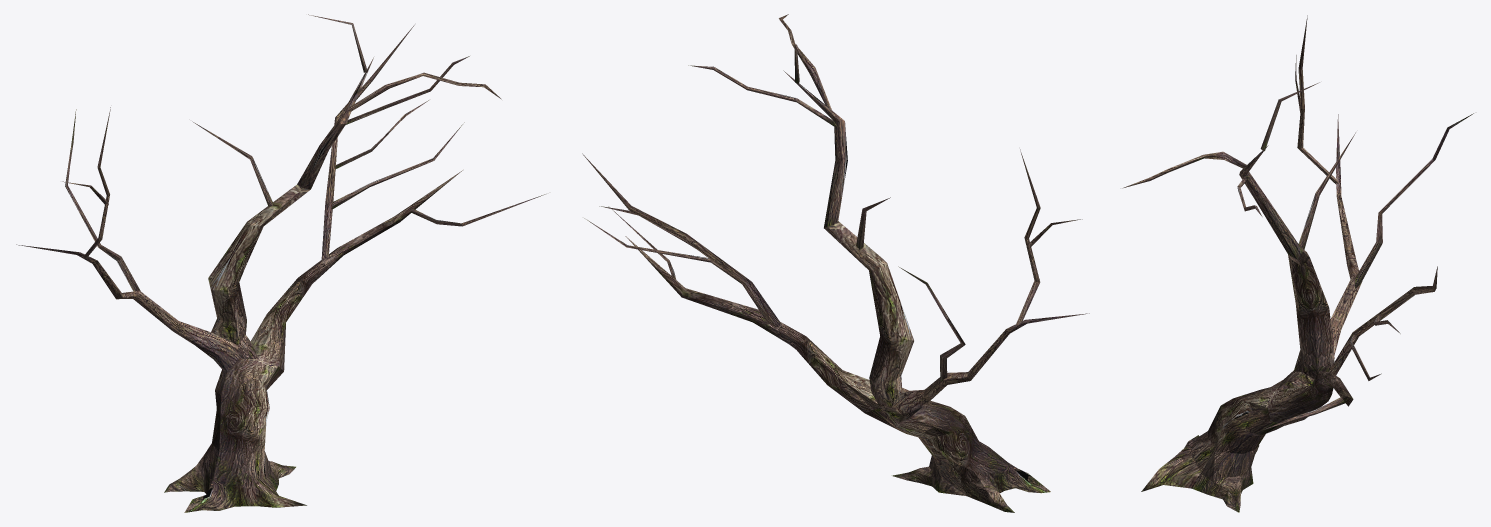
File: Yland1_sg_02 Yland1.FBX
3 renders of one model, left to right at view 1: azimuth 30°, elevation 25°; view 2: azimuth 150°, elevation 25°; view 3: azimuth 270°, elevation 25°, orthographic. The views are drawn at different scales.
Visible parts, largest first — view 1: Yland1_sg_02 Yland1; view 2: Yland1_sg_02 Yland1; view 3: Yland1_sg_02 Yland1.
Boxes of the visible parts, box(x1,y1,x2,y2) form: Yland1_sg_02 Yland1: box(16, 14, 545, 512); Yland1_sg_02 Yland1: box(582, 14, 1089, 512); Yland1_sg_02 Yland1: box(1122, 15, 1473, 512).
Bounding box in the file's own units: 7.7 × 6.07 × 4.29.
